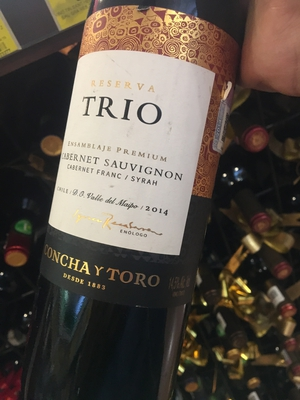trio cabernet sauvignon: (45, 11, 242, 383)
